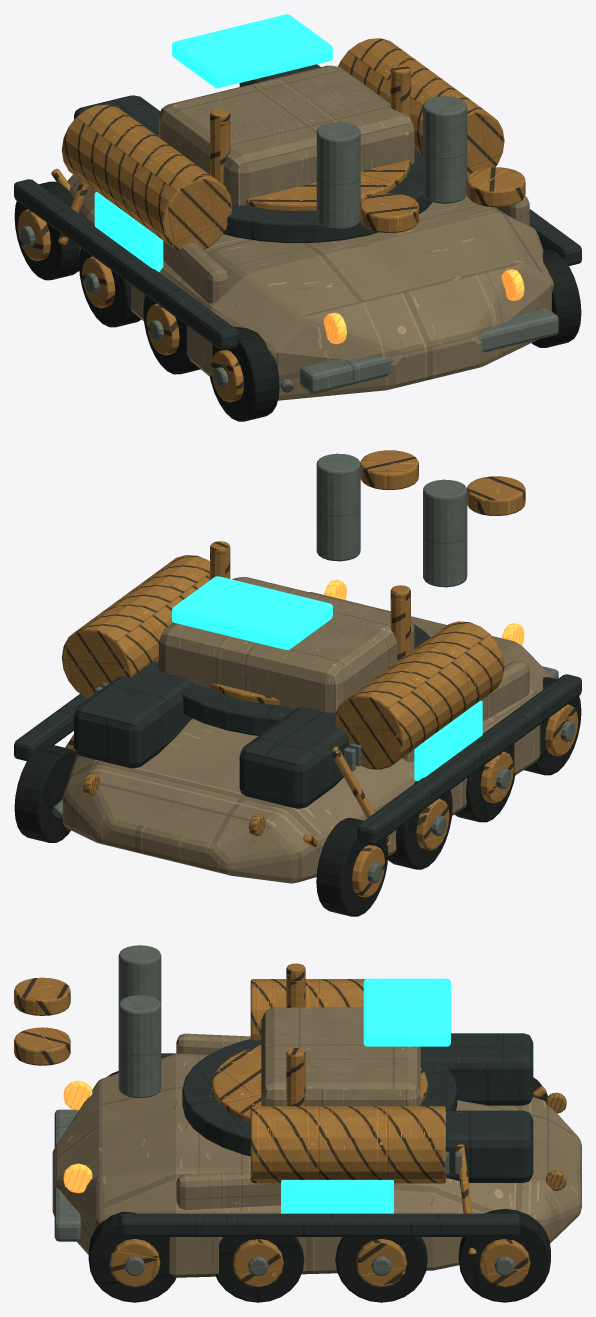
File: drift_scorcher.glb
3 renders of one model, top to bottom at view 1: azimuth 30°, elevation 25°; view 2: azimuth 150°, elevation 25°; view 3: azimuth 270°, elevation 25°, orthographic. The views are drawn at different scales.
Visible parts, largest first — view 1: Wanderpakt · low angular field chassis, Raised armored traversing turret, Protected fuel pressure vessel, Faction detail · Vehicle / rubber.005, Faction detail · Vehicle / dark.005, Faction detail · Vehicle / steel.001, Faction detail · Vehicle / hazard.001, TeamColor, Protected fuel pressure vessel.001, Faction detail · Vehicle / steel.005, Faction detail · Vehicle / hazard.005, Independent traverse race (+3 smaller); view 2: Wanderpakt · low angular field chassis, Faction detail · Vehicle / dark.005, Raised armored traversing turret, Protected fuel pressure vessel, Faction detail · Vehicle / rubber.005, Protected fuel pressure vessel.001, Faction detail · Vehicle / steel.001, TeamColor, Faction detail · Vehicle / hazard.001, Faction detail · Vehicle / hazard.005, Independent traverse race, TeamColor flank details (+4 smaller); view 3: Wanderpakt · low angular field chassis, Faction detail · Vehicle / dark.005, Protected fuel pressure vessel.001, Faction detail · Vehicle / rubber.005, Raised armored traversing turret, Faction detail · Vehicle / hazard.001, Faction detail · Vehicle / hazard.005, Faction detail · Vehicle / steel.001, TeamColor, Independent traverse race, Faction detail · Vehicle / armor_light.005, TeamColor flank details (+4 smaller).
Part boxes in pixels (<box>): Wanderpakt · low angular field chassis: <box>67,174,553,400</box>; Raised armored traversing turret: <box>159,65,414,205</box>; Protected fuel pressure vessel: <box>61,104,232,250</box>; Faction detail · Vehicle / rubber.005: <box>14,181,581,421</box>; Faction detail · Vehicle / dark.005: <box>14,64,581,350</box>; Faction detail · Vehicle / steel.001: <box>316,96,467,229</box>; Faction detail · Vehicle / hazard.001: <box>210,64,525,232</box>; TeamColor: <box>172,14,332,88</box>; Protected fuel pressure vessel.001: <box>338,38,504,177</box>; Faction detail · Vehicle / steel.005: <box>20,225,558,393</box>; Faction detail · Vehicle / hazard.005: <box>17,168,243,402</box>; Independent traverse race: <box>223,149,432,242</box>; Wanderpakt · low angular field chassis: <box>62,592,552,883</box>; Faction detail · Vehicle / dark.005: <box>14,661,581,845</box>; Raised armored traversing turret: <box>159,577,414,712</box>; Protected fuel pressure vessel: <box>334,621,504,769</box>; Faction detail · Vehicle / rubber.005: <box>14,677,581,916</box>; Protected fuel pressure vessel.001: <box>61,555,209,698</box>; Faction detail · Vehicle / steel.001: <box>316,453,467,587</box>; TeamColor: <box>172,576,332,649</box>; Faction detail · Vehicle / hazard.001: <box>210,450,525,705</box>; Faction detail · Vehicle / hazard.005: <box>65,684,578,897</box>; Independent traverse race: <box>158,624,430,735</box>; TeamColor flank details: <box>414,700,482,781</box>; Wanderpakt · low angular field chassis: <box>52,1053,581,1277</box>; Faction detail · Vehicle / dark.005: <box>119,1033,533,1236</box>; Protected fuel pressure vessel.001: <box>250,1106,445,1183</box>; Faction detail · Vehicle / rubber.005: <box>88,1071,550,1302</box>; Raised armored traversing turret: <box>261,1007,420,1106</box>; Faction detail · Vehicle / hazard.001: <box>14,963,427,1122</box>; Faction detail · Vehicle / hazard.005: <box>109,1086,546,1287</box>; Faction detail · Vehicle / steel.001: <box>118,945,161,1097</box>; TeamColor: <box>363,978,450,1046</box>; Independent traverse race: <box>182,1039,457,1156</box>; Faction detail · Vehicle / armor_light.005: <box>176,1033,280,1210</box>; TeamColor flank details: <box>281,1180,393,1213</box>.
Bounding box in the file's own units: 2.26 × 1.55 × 3.2.
9 materials, 9 textured.
